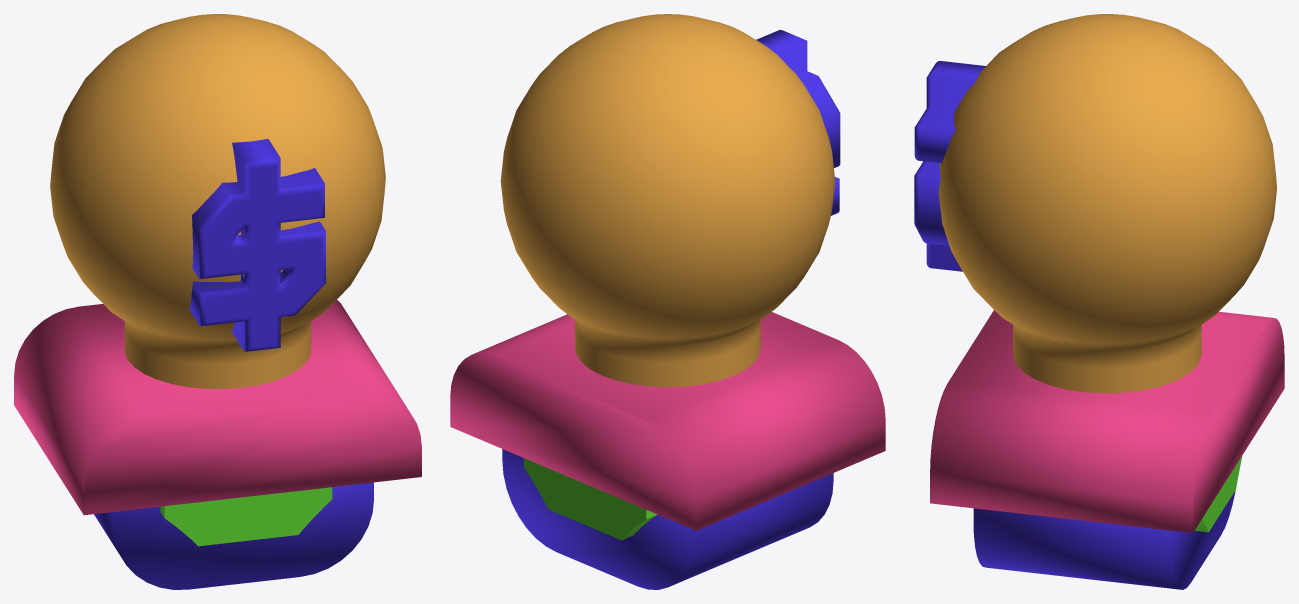
3 renders of one model, left to right at view 1: azimuth 30°, elevation 25°; view 2: azimuth 150°, elevation 25°; view 3: azimuth 270°, elevation 25°, orthographic.
Visible parts, largest first — view 1: MONEY IDEA, Cube.056, Curve, Cube.057, Cube.058; view 2: MONEY IDEA, Cube.056, Cube.057, Cube.058, Curve; view 3: MONEY IDEA, Cube.056, Cube.057, Curve, Cube.058.
Boxes of the visible parts, bbox=[...] form: MONEY IDEA: bbox=[50, 14, 385, 388]; Cube.056: bbox=[14, 300, 421, 515]; Curve: bbox=[189, 139, 325, 351]; Cube.057: bbox=[94, 482, 373, 589]; Cube.058: bbox=[160, 487, 332, 546]; MONEY IDEA: bbox=[500, 14, 835, 387]; Cube.056: bbox=[450, 312, 885, 530]; Cube.057: bbox=[502, 449, 833, 589]; Cube.058: bbox=[524, 458, 657, 540]; Curve: bbox=[756, 30, 840, 215]; MONEY IDEA: bbox=[938, 14, 1276, 393]; Cube.056: bbox=[930, 310, 1284, 532]; Cube.057: bbox=[973, 490, 1235, 589]; Curve: bbox=[914, 61, 985, 271]; Cube.058: bbox=[1194, 455, 1242, 532].
Size of the model in its own units: 1.57 by 2.17 by 1.41.
